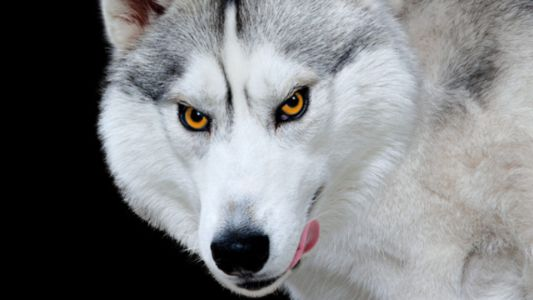wolf: (90, 5, 531, 298)
